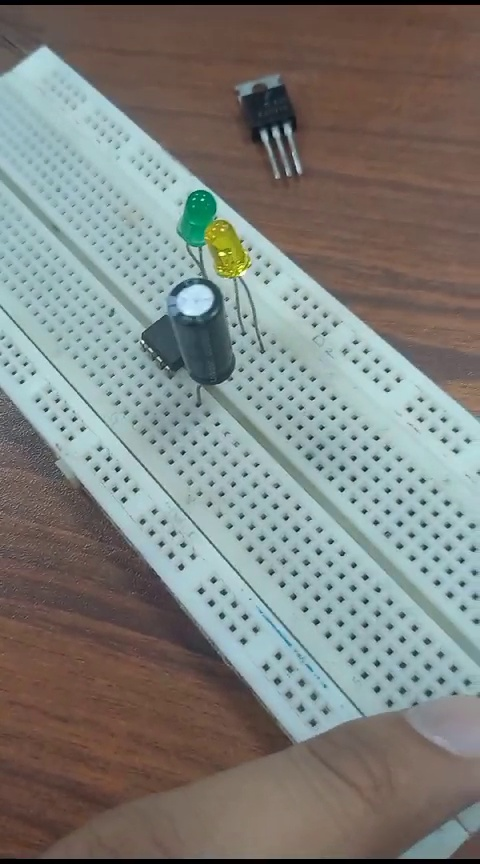IC: (122, 311, 187, 379)
LED: (202, 217, 260, 296), (174, 180, 212, 267)
capacitor: (168, 281, 236, 387)
voltage regulator: (222, 73, 314, 183)
